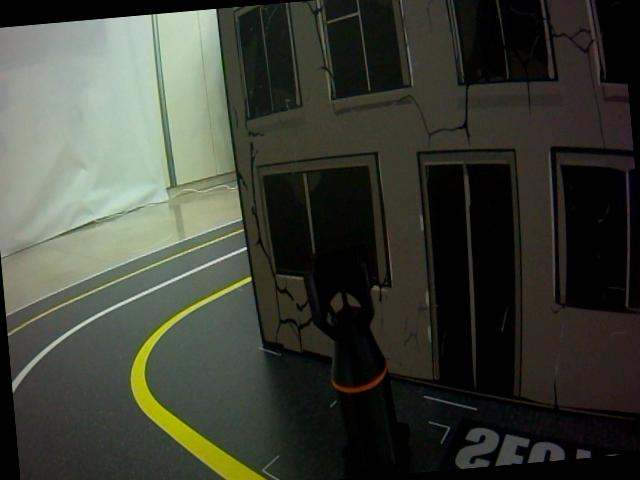Missile: (296, 236, 418, 480)
